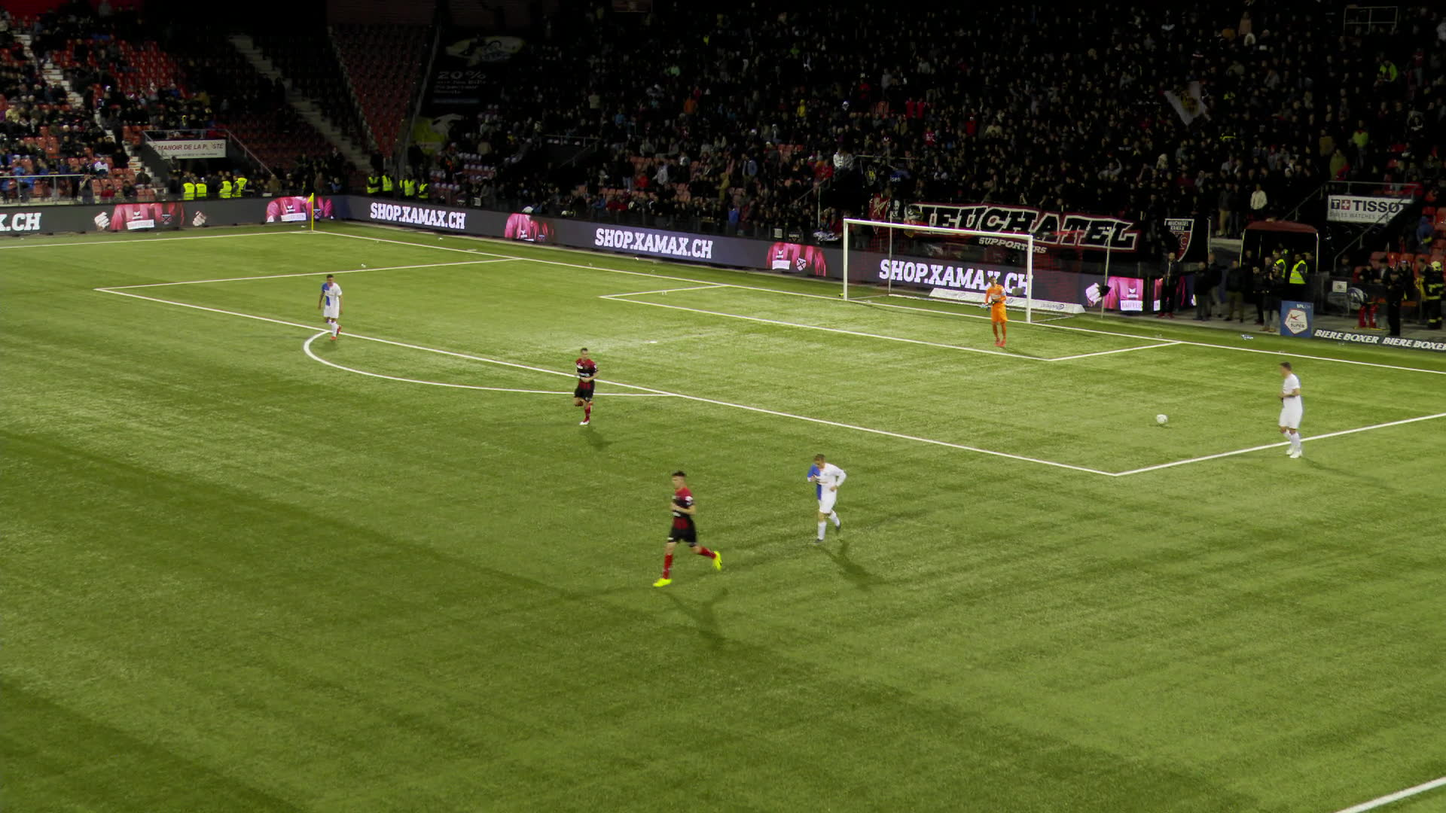ball: (1157, 415, 1165, 422)
player: (650, 470, 724, 588), (810, 456, 850, 544), (1275, 360, 1304, 458), (572, 347, 599, 427), (316, 273, 343, 340), (983, 275, 1007, 348)
